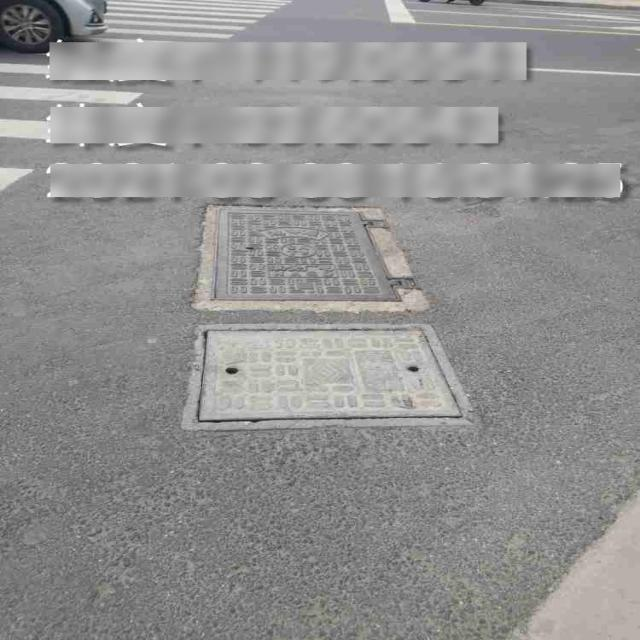Good: (166, 317, 492, 442), (184, 195, 422, 313)
